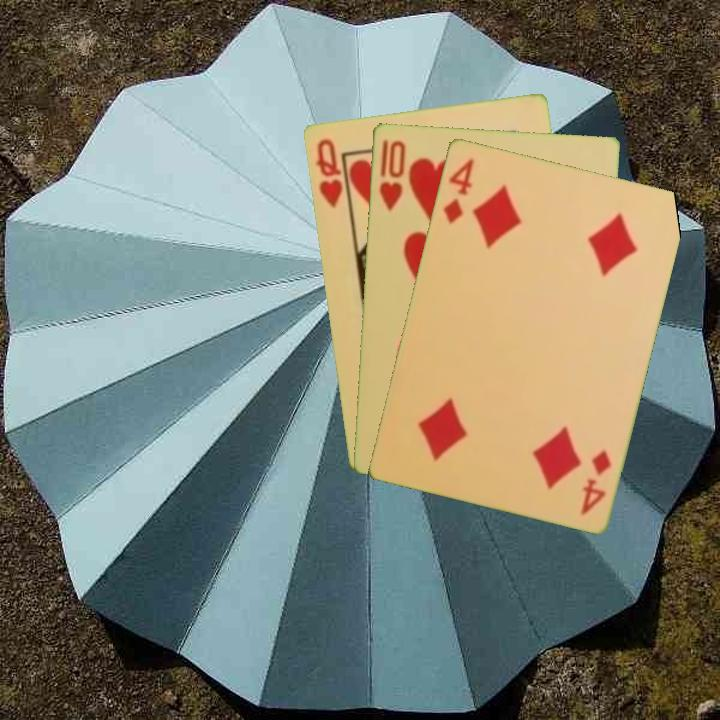10h: (375, 136, 408, 213)
4d: (576, 445, 614, 518), (439, 154, 476, 226)
Qh: (312, 135, 345, 210)
